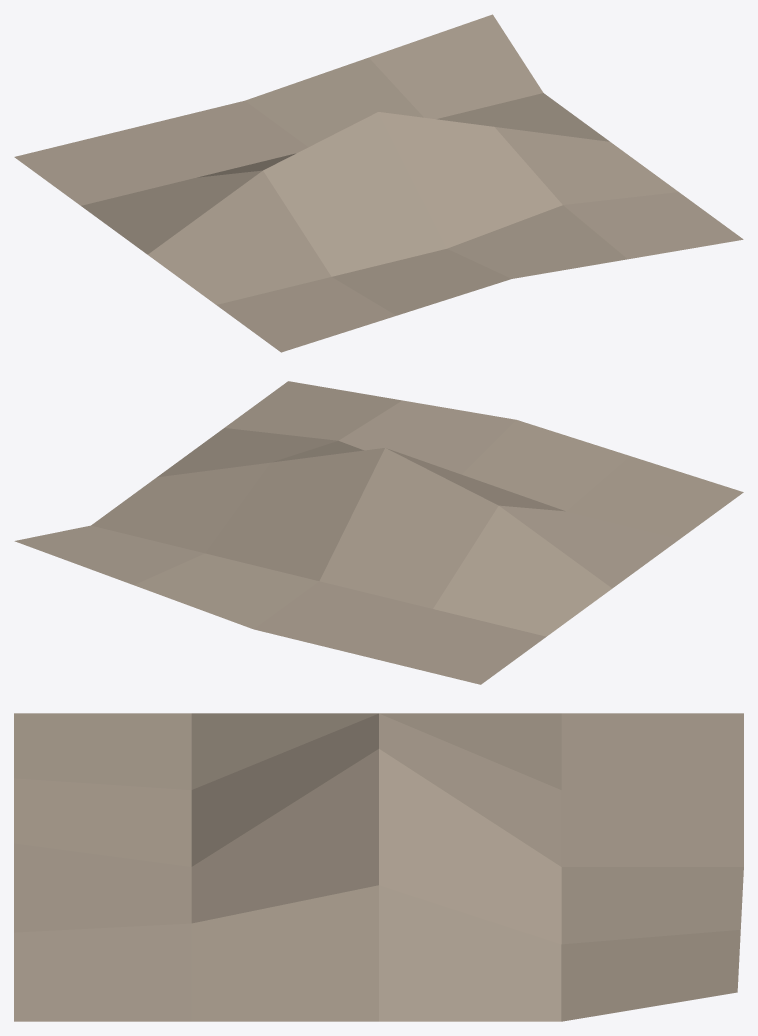
The model's file is Trash_Tissue.fbx.
3 views of the same model, one above another, from view 1: azimuth 30°, elevation 25°; view 2: azimuth 150°, elevation 25°; view 3: azimuth 270°, elevation 25° (orthographic). The views are drawn at different scales.
Visible parts, largest first — view 1: Plane; view 2: Plane; view 3: Plane.
Boxes of the visible parts, x1,y1,x2,y2 form: Plane: (14,14,743,352); Plane: (14,381,743,684); Plane: (14,713,743,1021).
Bounding box in the file's own units: 206 × 35.78 × 200.
